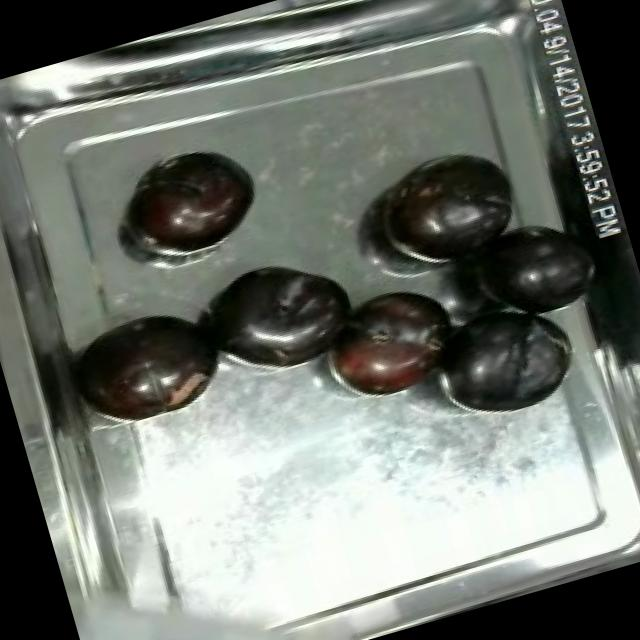Fruit: (354, 129, 533, 284), (194, 234, 373, 384), (300, 266, 476, 418), (414, 282, 586, 436), (58, 292, 238, 438), (115, 136, 271, 269), (80, 616, 205, 640)
